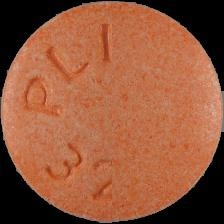61786-074: (0, 0, 224, 224)
